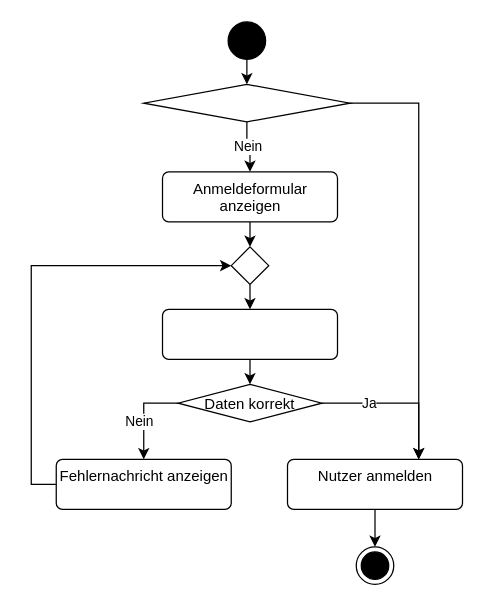
This 484x606 diagram has some shape labels left out. The shapes that lost their labels are listed below. From the top down, each one's centre as x and y in pixels, then its label:
(246,102): Cookies vorhanden
(249,333): Anmeldedaten eingeben
